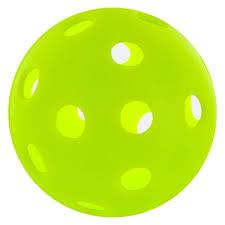ball: (4, 3, 218, 222)
